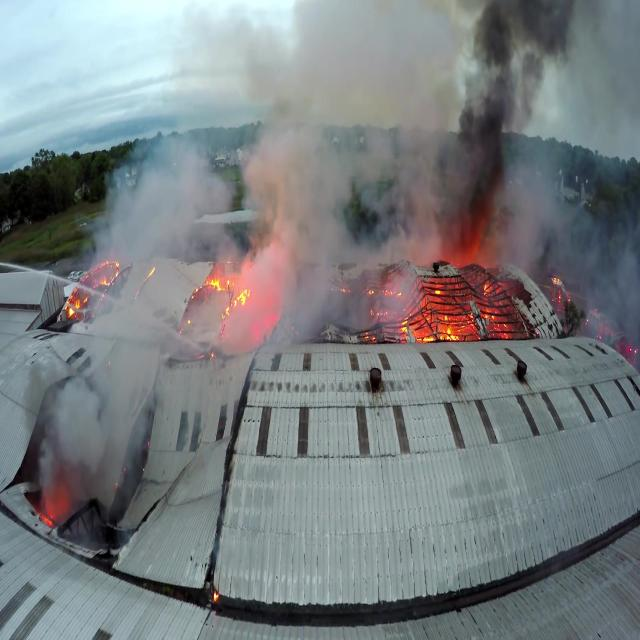Fire: (73, 230, 555, 355), (38, 464, 76, 536)
Smoke: (28, 0, 597, 523)
